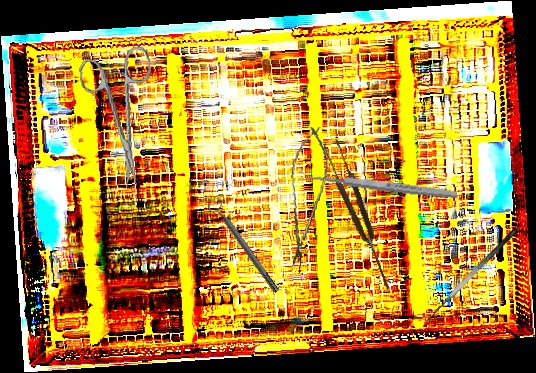Fixation Ring: (205, 196, 284, 297)
Iris Scissors: (77, 45, 165, 192)
Micro Scissor: (280, 122, 333, 271)
Spatula Surgical: (421, 227, 526, 330)
Surgical Spoon: (297, 169, 458, 201)
Tissue Forceps: (321, 137, 397, 294)
